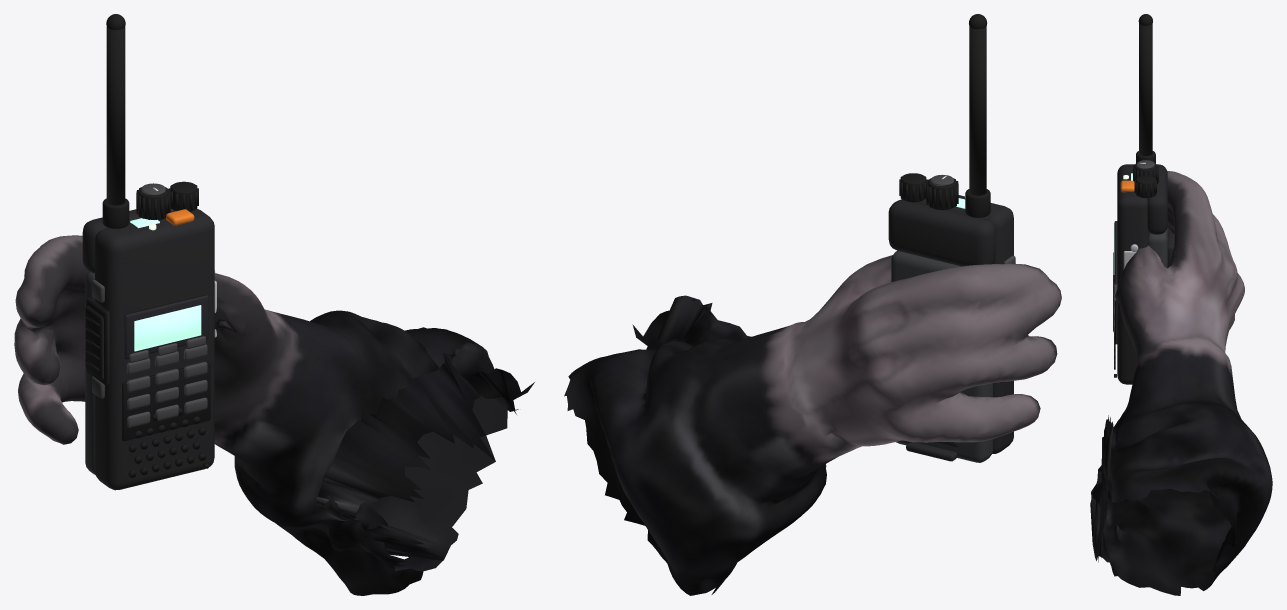
File: HeldRadio.fbx
3 renders of one model, left to right at view 1: azimuth 30°, elevation 25°; view 2: azimuth 150°, elevation 25°; view 3: azimuth 270°, elevation 25°, orthographic. The views are drawn at different scales.
Parts seen in each view (by area): view 1: PlayerHand_R, PoliceRadio_Handheld; view 2: PlayerHand_R, PoliceRadio_Handheld; view 3: PlayerHand_R, PoliceRadio_Handheld.
Part boxes in pixels (x1,y1,x2,y2): PlayerHand_R: (14,235,534,595); PoliceRadio_Handheld: (82,14,216,490); PlayerHand_R: (564,255,1061,595); PoliceRadio_Handheld: (888,14,1015,462); PlayerHand_R: (1090,171,1272,595); PoliceRadio_Handheld: (1113,14,1174,384).
Bounding box in the file's own units: 0.271 × 0.3515 × 0.119.
13 materials, 1 textured.
